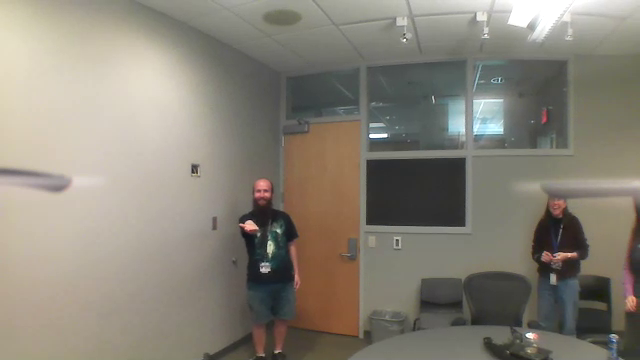land: (236, 218, 265, 239)
